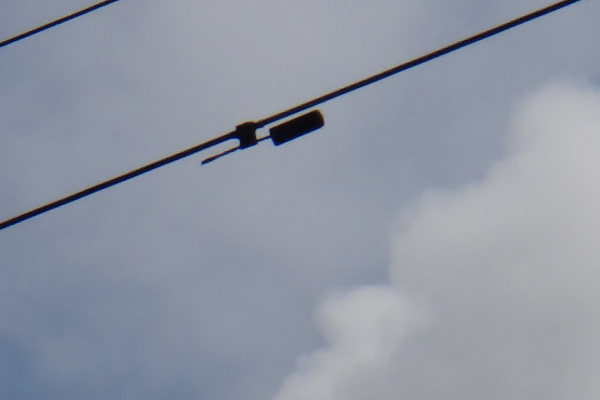damper_defect: (197, 108, 327, 166)
